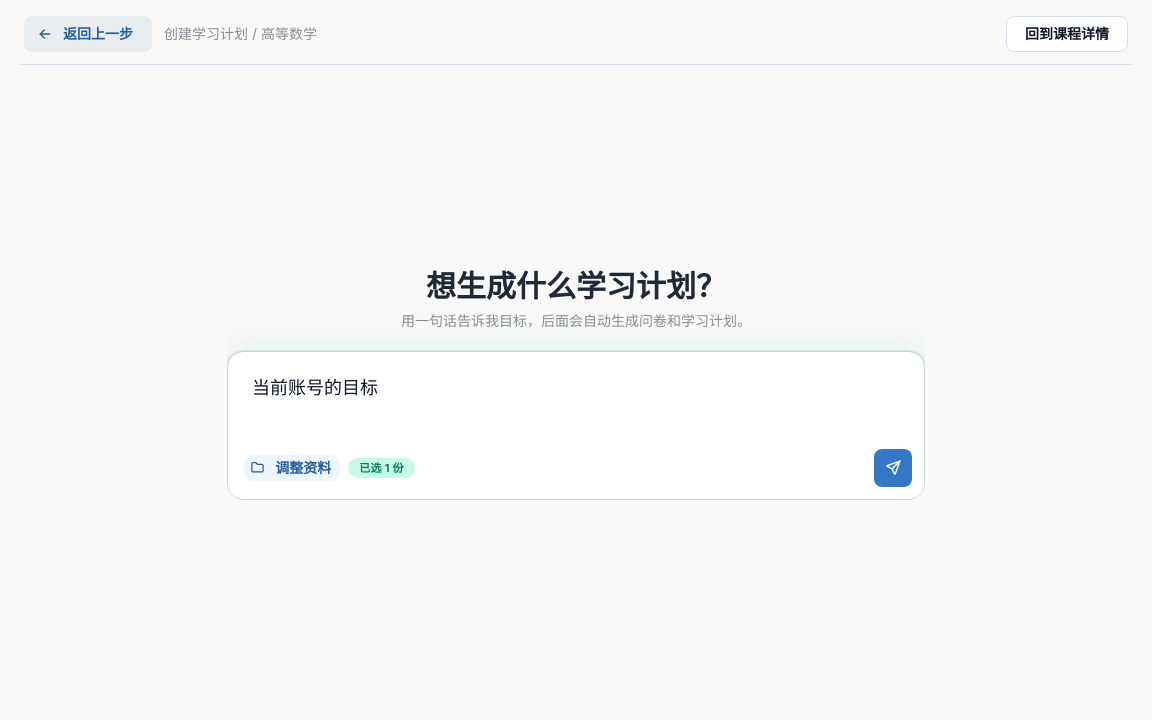
Test case: study plan pages › restores only the current user's versioned course draft
Check: the text box showing "当前账号的目标" is shown, box [228, 352, 924, 443]
Check: the text "已选 1 份" is shown, box [359, 459, 404, 477]
Step 1. Hover over the button "调整资料" → [292, 468], box [244, 455, 340, 481]
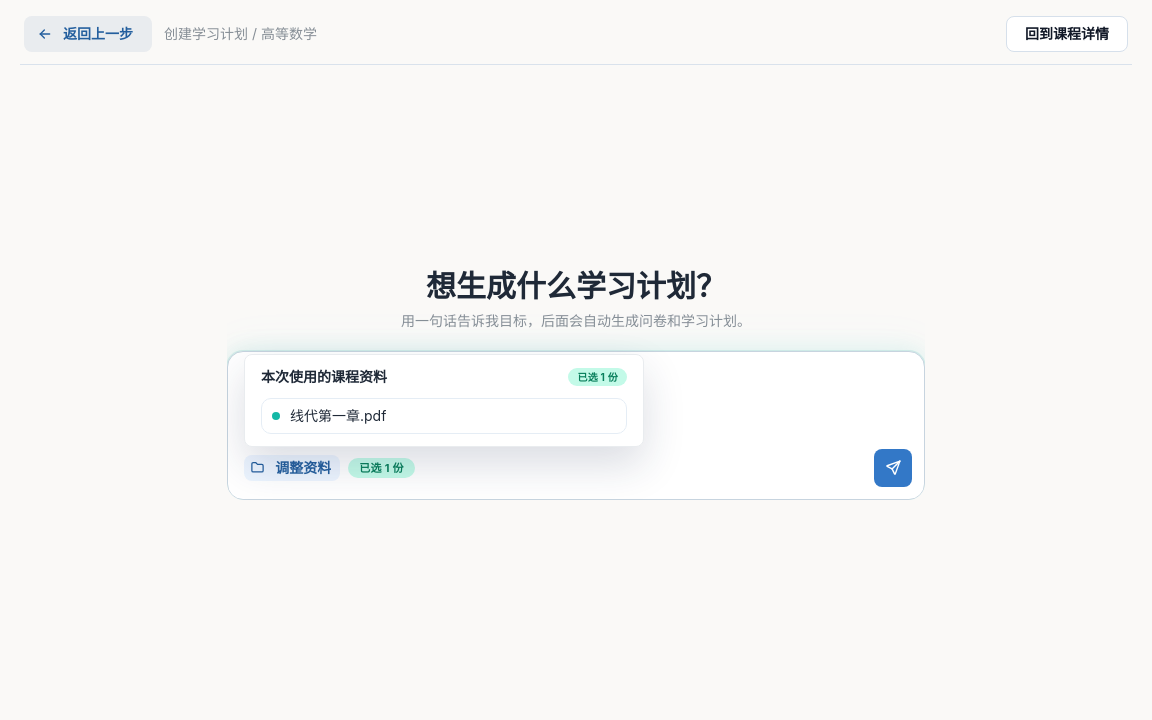
Check: the text "线代第一章.pdf" is shown, box [290, 406, 386, 426]
